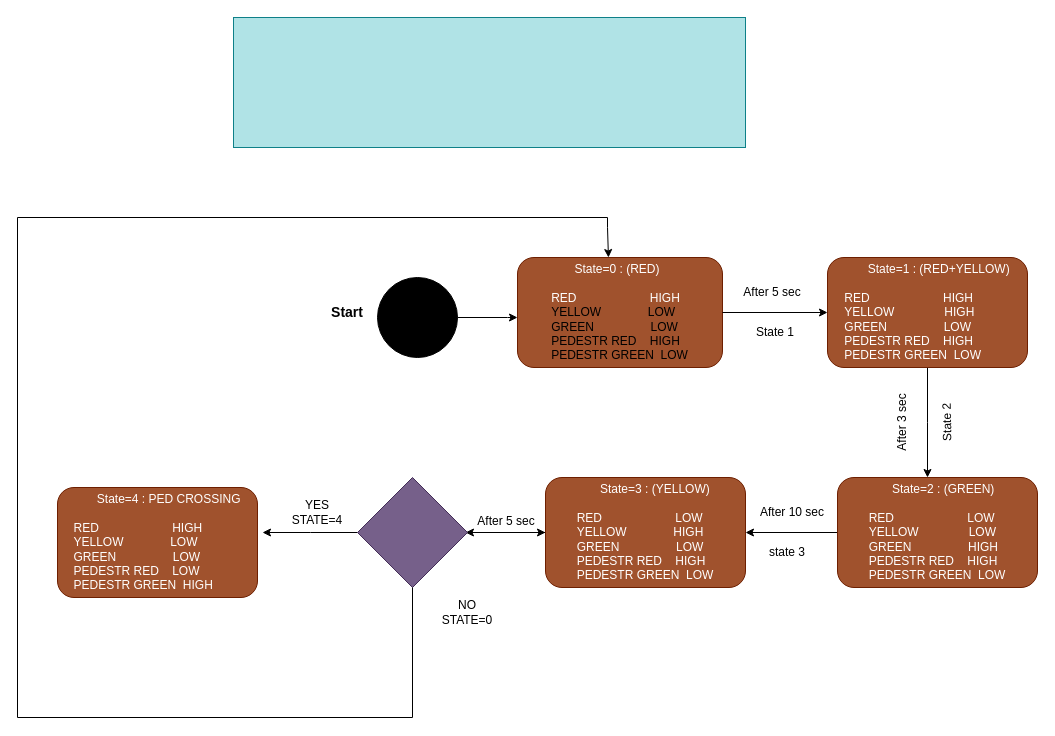
Image size: 1055x736. Some labels were removed from this diagram. The centre of each missing label's shape, as x and y in pixels:
"Pedestrian Button Pushed?" belongs at point 412,532.
"State machine Diagram Traffic Light with Pedestrian Crossing" belongs at point 489,82.
